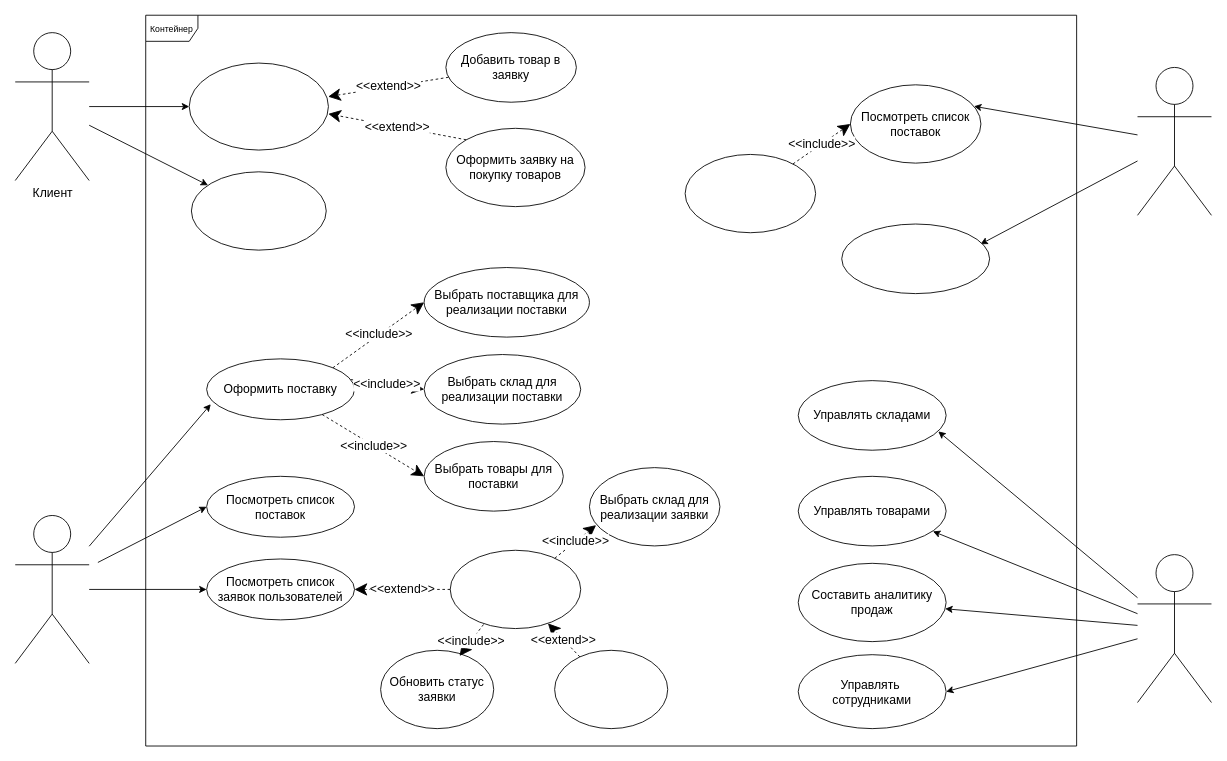
The diagram is 1227 pixels wide and 761 high, and some of its shapes have lost their labels. The centre of each missing label's shape, as x and y in pixels:
"Директор" belongs at (1174,628).
"Менеджер" belongs at (51,589).
"Подтвердить продажу" belongs at (611,689).
"Поставщик" belongs at (1174,141).
"Просмотреть каталог товаров" belongs at (258,106).
"Просмотреть список своих заявок" belongs at (258,210).
"Управлять заявкой" belongs at (515,589).
"Управлять каталогом товаров" belongs at (915,258).
"Управлять поставкой" belongs at (750,193).
